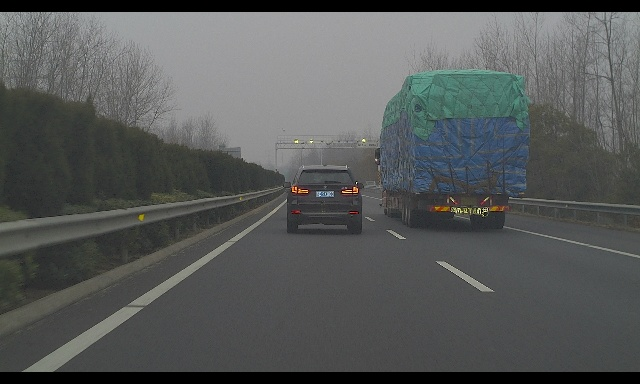car: (283, 164, 364, 234)
truck: (375, 69, 530, 229)
